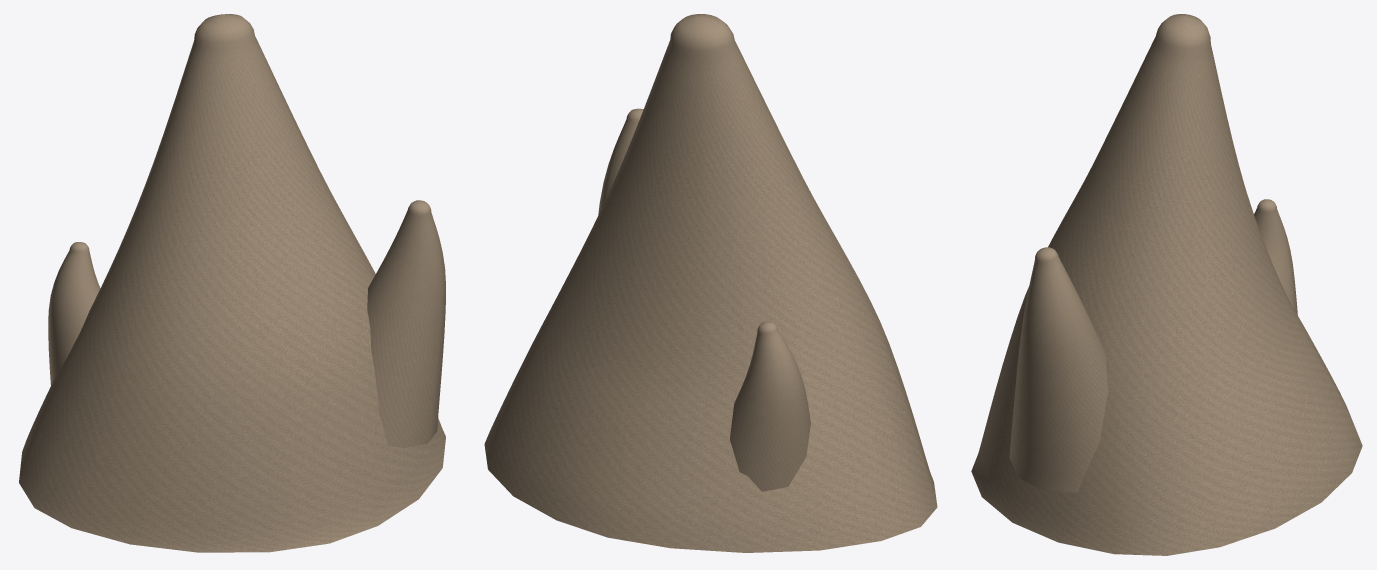
Rendered from exotic-wildlife-hd-termite-mound-7958611e__30226.glb.
3 views of the same model, side by side, from view 1: azimuth 30°, elevation 25°; view 2: azimuth 150°, elevation 25°; view 3: azimuth 270°, elevation 25° (orthographic). The views are drawn at different scales.
Parts seen in each view (by area): view 1: termite-mound; view 2: termite-mound; view 3: termite-mound.
Boxes of the visible parts, x1=… form: termite-mound: x1=19, y1=14, x2=445, y2=552; termite-mound: x1=484, y1=14, x2=937, y2=552; termite-mound: x1=971, y1=14, x2=1362, y2=555.
Bounding box in the file's own units: 2.3 × 2.5 × 1.95.
Materials: 1 (1 with a texture image).
